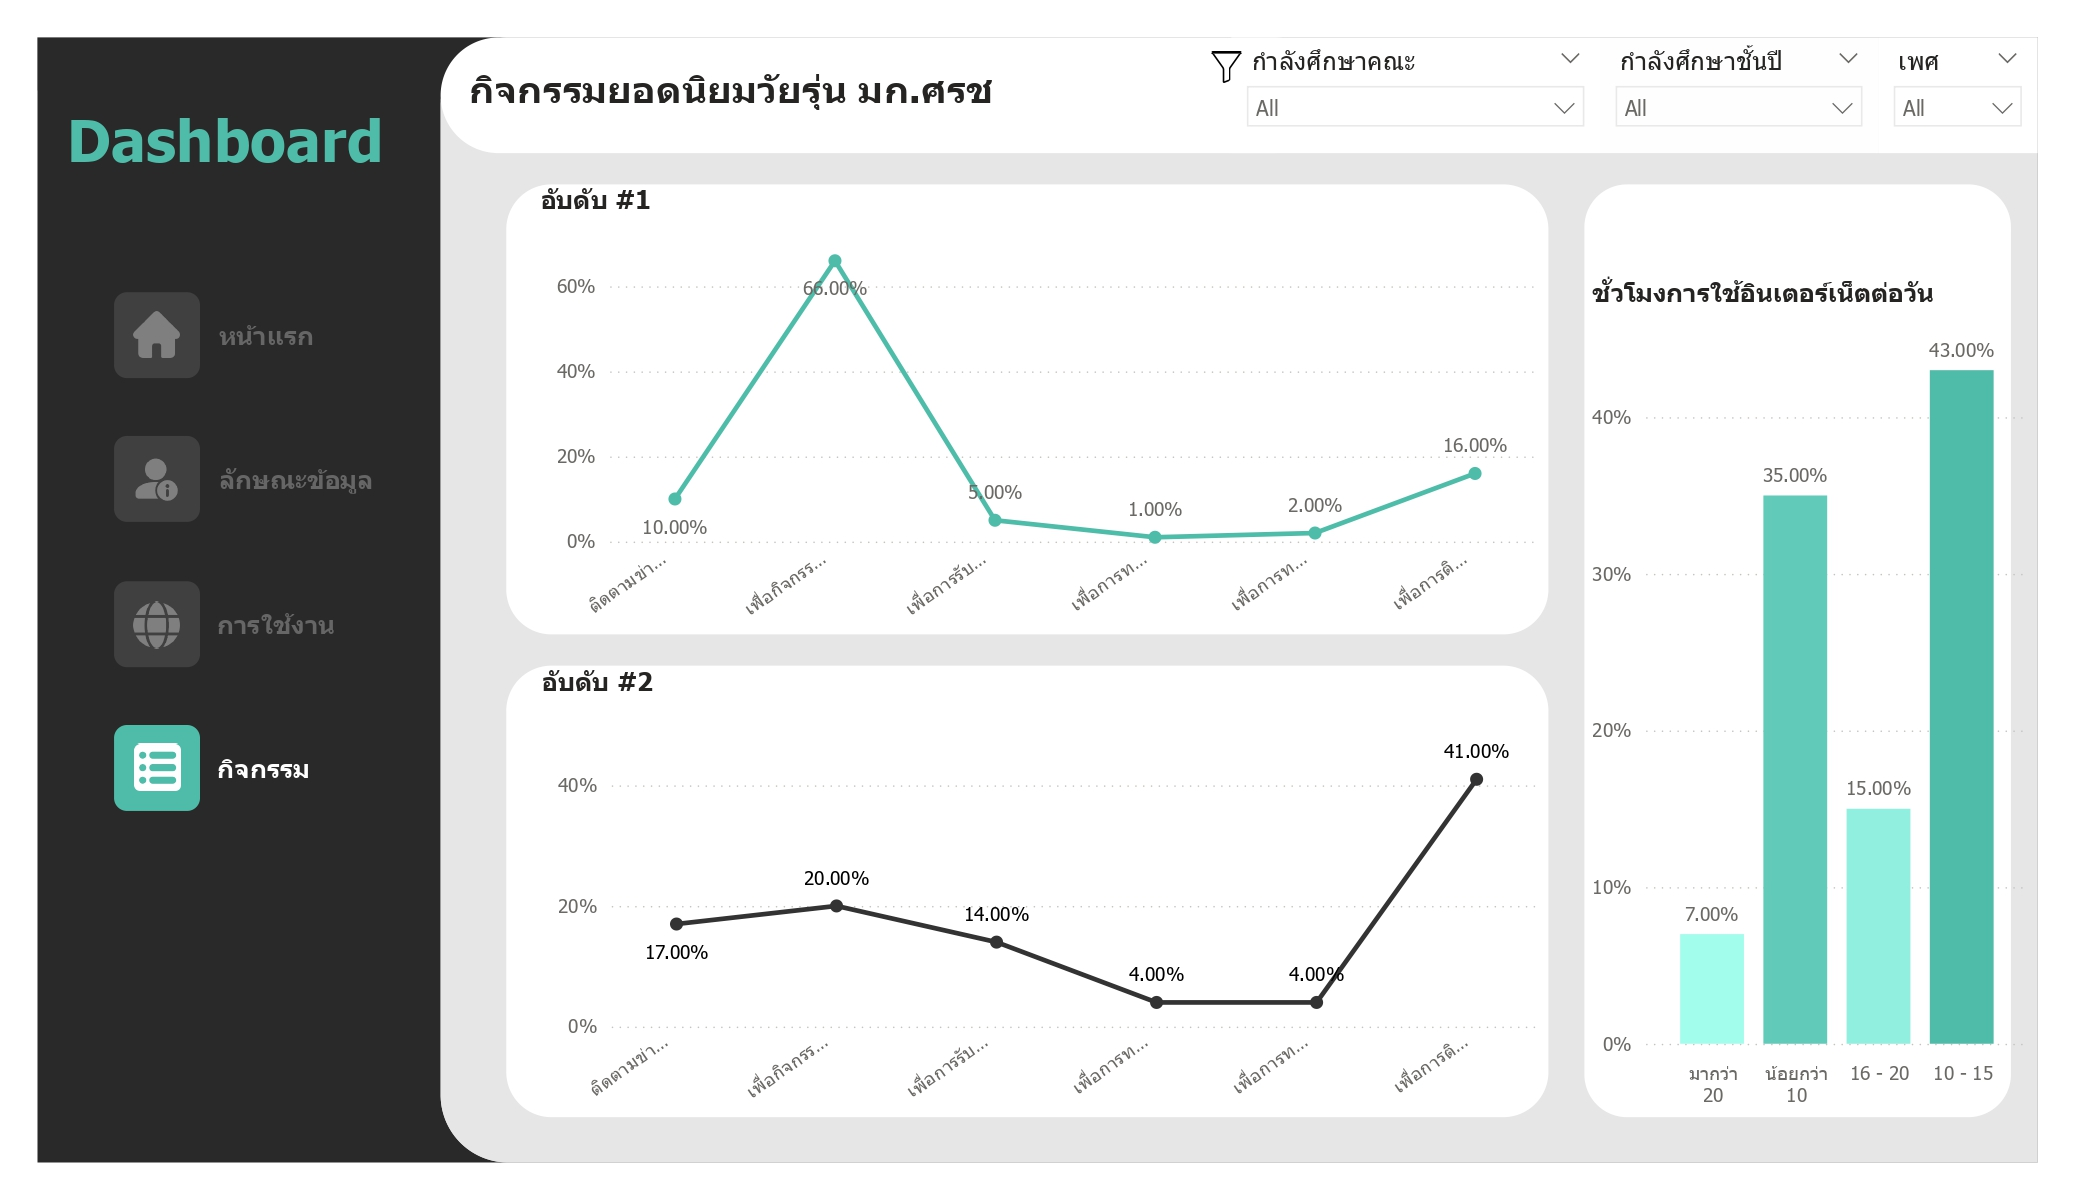

This screenshot's page, from the dashboard's own definition file:
{"tool":"powerbi","page":{"name":"กิจกรรมยอดนิยมวันรุ่ย มก.ศรช","canvas":[1280,720],"ordinal":3},"visuals":[{"type":"shape","box":[257.8,0,1022.2,720.1],"z":0},{"type":"shape","box":[300.2,93.9,666.7,288.2],"z":1000},{"type":"slicer","fields":{"Values":["normalized_dataset.กำลังศึกษาชั้นปี"]},"box":[1000,0,177.8,74.4],"z":2000},{"type":"shape","box":[257.8,0,571.1,74.4],"z":3000},{"type":"slicer","fields":{"Values":["normalized_dataset.เพศ"]},"box":[1177.8,0,102.2,74.4],"z":4000},{"type":"slicer","fields":{"Values":["normalized_dataset.กำลังศึกษาคณะ"]},"box":[764.4,0,235.6,74.4],"z":5000},{"type":"textbox","box":[271.1,13.3,462.2,70],"z":6000},{"type":"image","box":[742.7,3.6,36.4,30],"z":7000},{"type":"shape","box":[300.2,402.4,666.7,288.2],"z":8000},{"type":"lineChart","title":"อับดับ #1","fields":{"Category":["normalized_dataset.กิจกรรมที่ใช้อินเตอร์เน็ตมากที่สุดอันดับ 1"],"Y":["CountNonNull(normalized_dataset.กิจกรรมที่ใช้อินเตอร์เน็ตมากที่สุดอันดับ 1)"]},"box":[317.5,93.8,649,288.5],"z":9000},{"type":"lineChart","title":"อับดับ #2","fields":{"Category":["normalized_dataset.กิจกรรมที่ใช้อินเตอร์เน็ตมากที่สุดอันดับ 2"],"Y":["CountNonNull(normalized_dataset.กิจกรรมที่ใช้อินเตอร์เน็ตมากที่สุดอันดับ 2)"]},"box":[317.7,402.4,649.2,288.2],"z":10000},{"type":"shape","box":[989.9,93.9,273.5,596.7],"z":11000},{"type":"clusteredColumnChart","title":"ชั่วโมงการใช้อินเตอร์เน็ตต่อวัน","fields":{"Category":["normalized_dataset.ช่วงการใช้งานอินเตอร์เน็ต"],"Y":["CountNonNull(normalized_dataset.ช่วงการใช้งานอินเตอร์เน็ต)"]},"box":[989.9,152.9,290.1,537.8],"z":12000},{"type":"shape","box":[49.2,255,55,55],"z":13000},{"type":"shape","box":[49.2,347.5,55,55],"z":14000},{"type":"shape","box":[49.2,440,55,55],"z":15000},{"type":"image","box":[56.1,262.2,40.3,40.3],"z":16000},{"type":"image","box":[56.1,355.2,40.3,40.3],"z":17000},{"type":"actionButton","box":[111.5,354.8,149.1,40.5],"z":18000},{"type":"actionButton","box":[111.5,447.4,149.1,40.5],"z":19000},{"type":"actionButton","box":[111.9,261.6,148.8,40.9],"z":20000},{"type":"textbox","box":[13.6,37.9,234.4,67.1],"z":21000},{"type":"shape","box":[49.2,162.5,55,55],"z":22000},{"type":"image","box":[56.4,170.2,39.9,39.9],"z":23000},{"type":"actionButton","box":[111.9,170.2,148.8,40.9],"z":24000},{"type":"image","box":[57.1,447.1,40.2,40.2],"z":25000}]}

Visuals, with their boxes on the page's 1280x720 design canvas (x1, y1, x2, y2). These are canvas units, not pixel positions in the 2075x1200 screenshot, which may show the page scaled, cropped or inside an application window:
shape: <box>258,0,1280,720</box>
shape: <box>300,94,967,382</box>
slicer - normalized_dataset.กำลังศึกษาชั้นปี: <box>1000,0,1178,74</box>
shape: <box>258,0,829,74</box>
slicer - normalized_dataset.เพศ: <box>1178,0,1280,74</box>
slicer - normalized_dataset.กำลังศึกษาคณะ: <box>764,0,1000,74</box>
textbox: <box>271,13,733,83</box>
image: <box>743,4,779,34</box>
shape: <box>300,402,967,691</box>
"อับดับ #1" lineChart: <box>318,94,966,382</box>
"อับดับ #2" lineChart: <box>318,402,967,691</box>
shape: <box>990,94,1263,691</box>
"ชั่วโมงการใช้อินเตอร์เน็ตต่อวัน" clusteredColumnChart: <box>990,153,1280,691</box>
shape: <box>49,255,104,310</box>
shape: <box>49,348,104,402</box>
shape: <box>49,440,104,495</box>
image: <box>56,262,96,302</box>
image: <box>56,355,96,396</box>
actionButton: <box>112,355,261,395</box>
actionButton: <box>112,447,261,488</box>
actionButton: <box>112,262,261,302</box>
textbox: <box>14,38,248,105</box>
shape: <box>49,162,104,218</box>
image: <box>56,170,96,210</box>
actionButton: <box>112,170,261,211</box>
image: <box>57,447,97,487</box>
